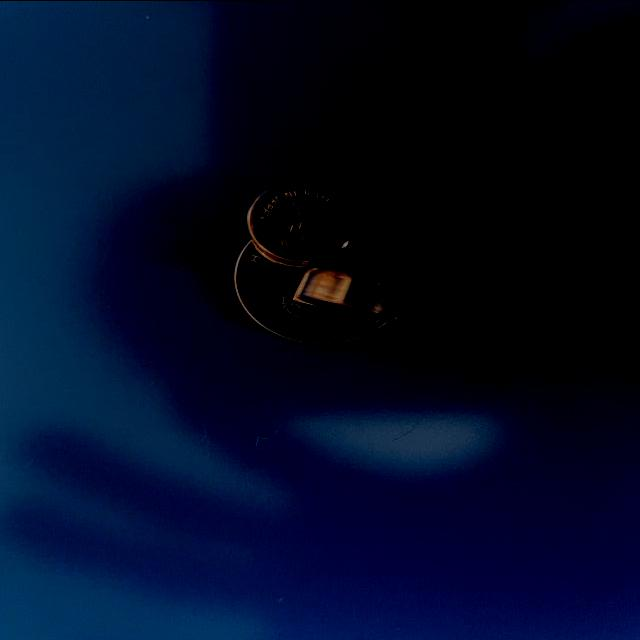COIN: (230, 207, 412, 346), (246, 178, 360, 266), (286, 264, 418, 322)
